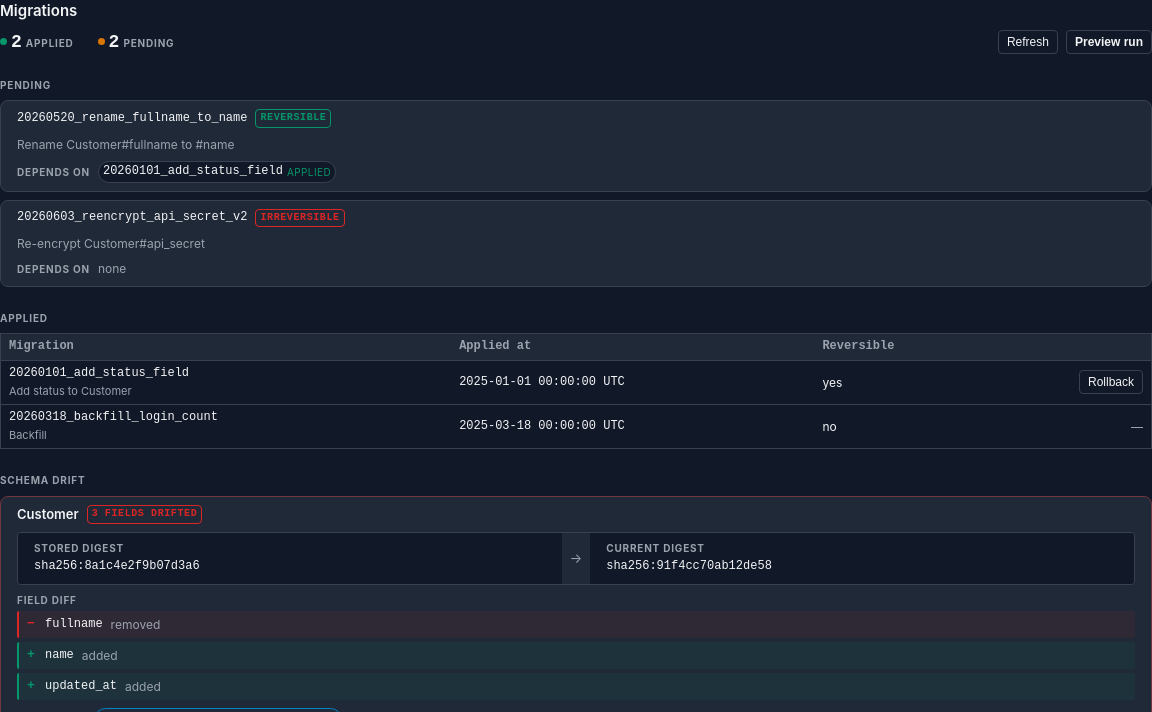
Scenario: dry-run preview renders the plan › applying a reversible dry-run runs the live POST and renders the done summary
Expected: the table with test id "migrations-applied-table" is shown, [0,333,1151,449]
Click the button with test id "migrations-preview-run" at (1109, 42), box [1066,30,1151,54]
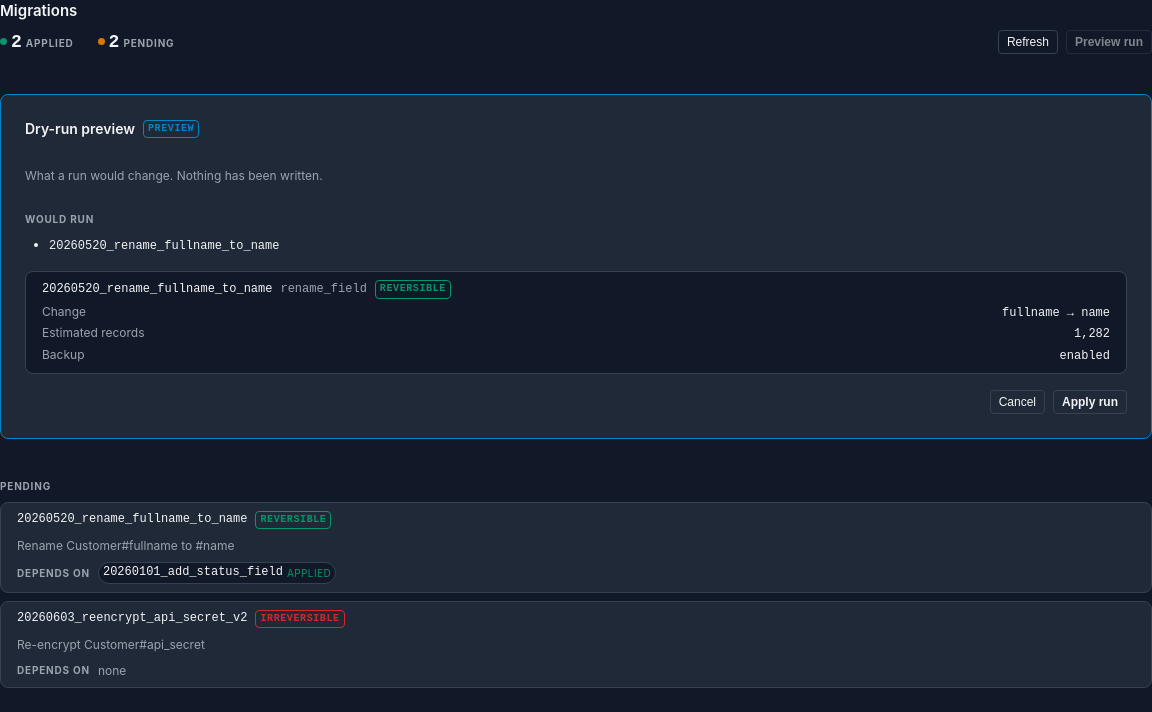
Now the element with test id "migrations-dryrun" is shown, box [0,94,1151,439]
# Reversible plan: no ack needed, Apply is enabled immediately.
Click the button with test id "migrations-apply" at (1090, 402), box [1053,390,1127,414]
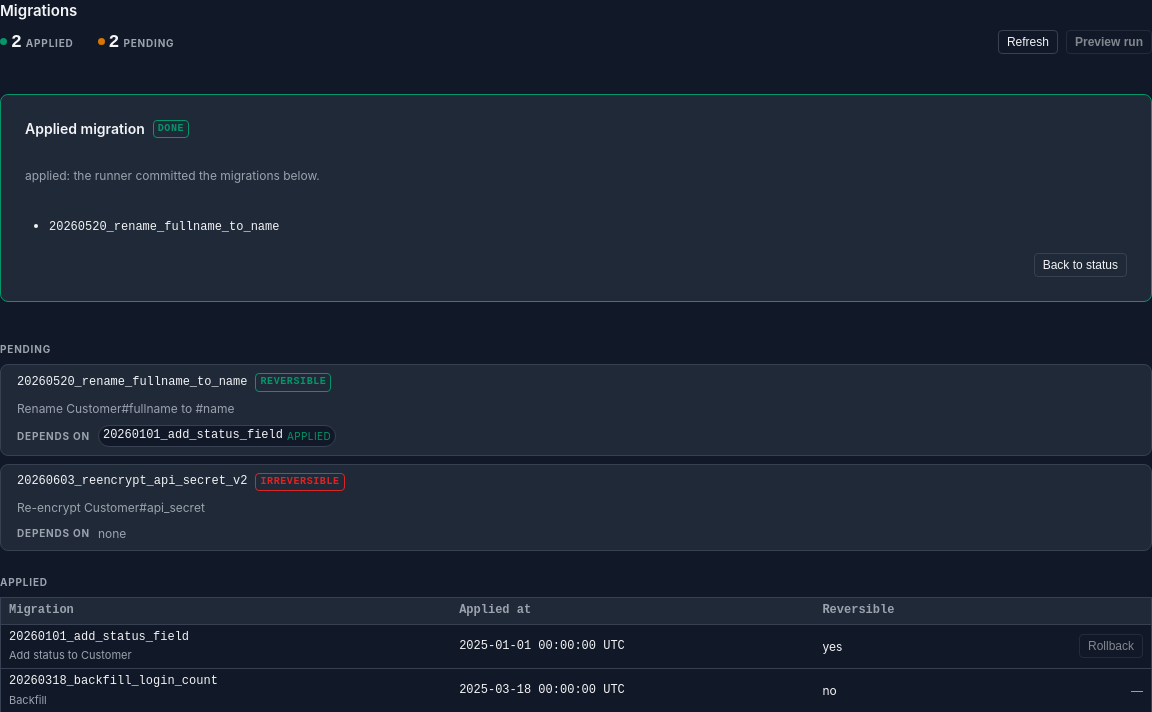
Now the list with test id "migrations-result-ids" reads "20260520_rename_fullname_to_name", box [49,220,279,234]
Now the element with test id "migrations-done" shows "Applied migration", box [25,120,145,137]
